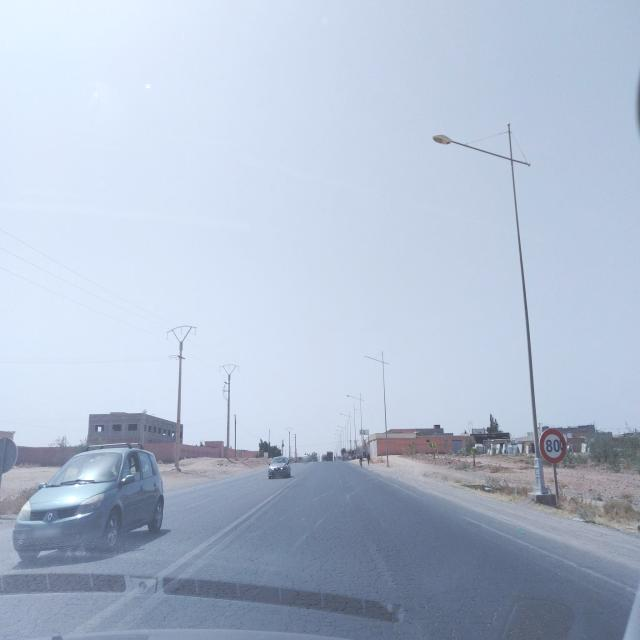car: (12, 442, 165, 563), (268, 455, 292, 480)
